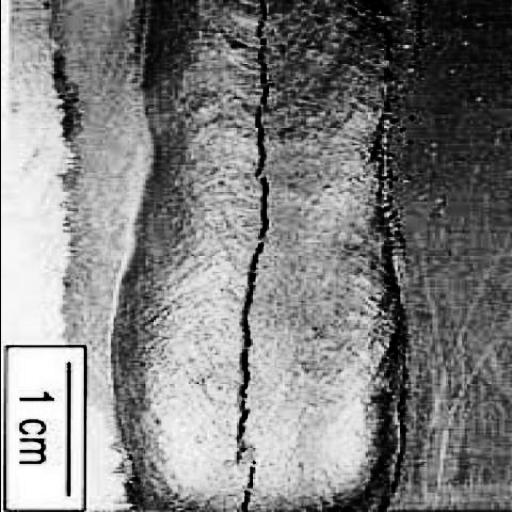crack: (225, 2, 282, 512)
